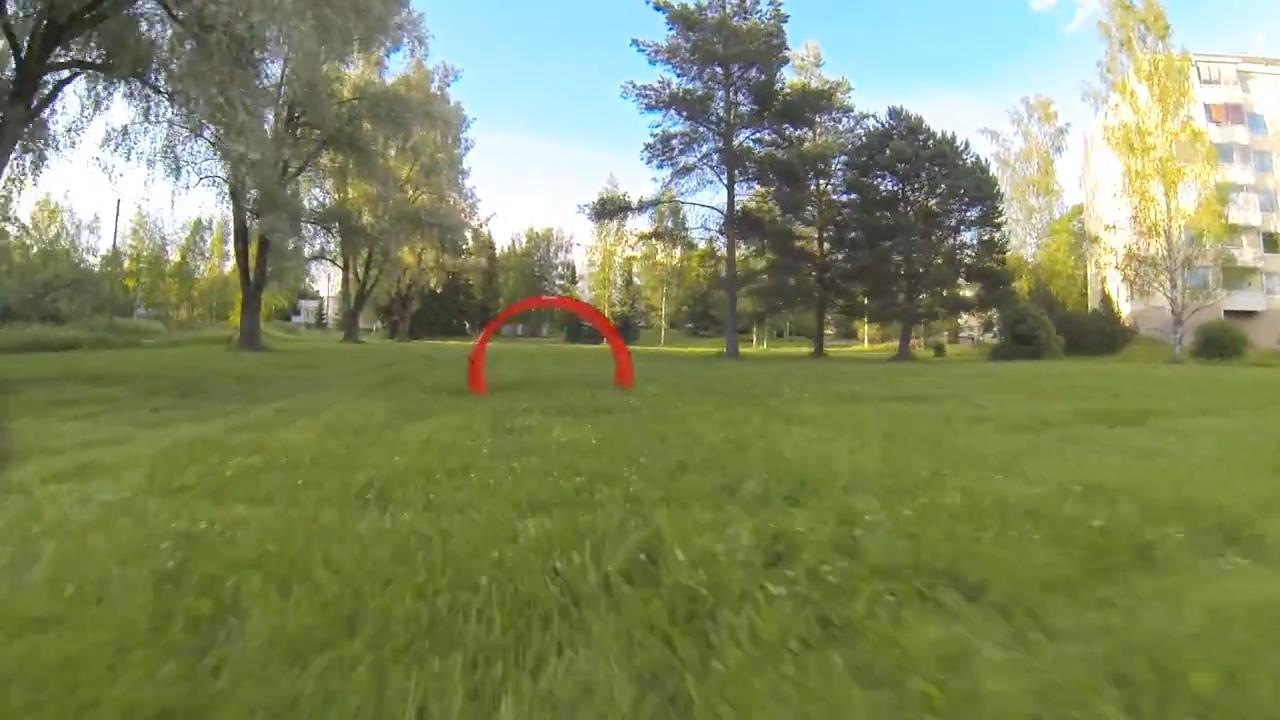gate: (466, 295, 641, 398)
